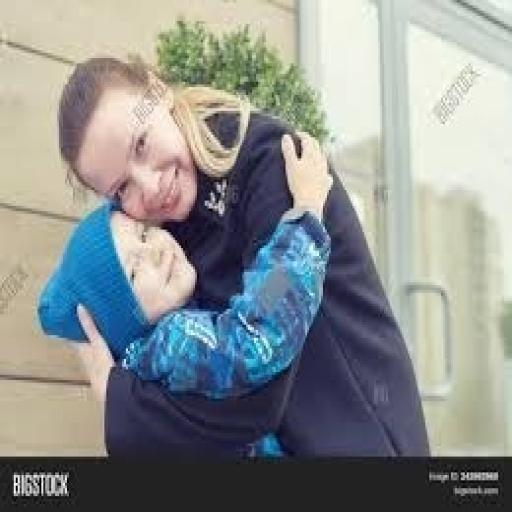hugging: (38, 50, 434, 462)
